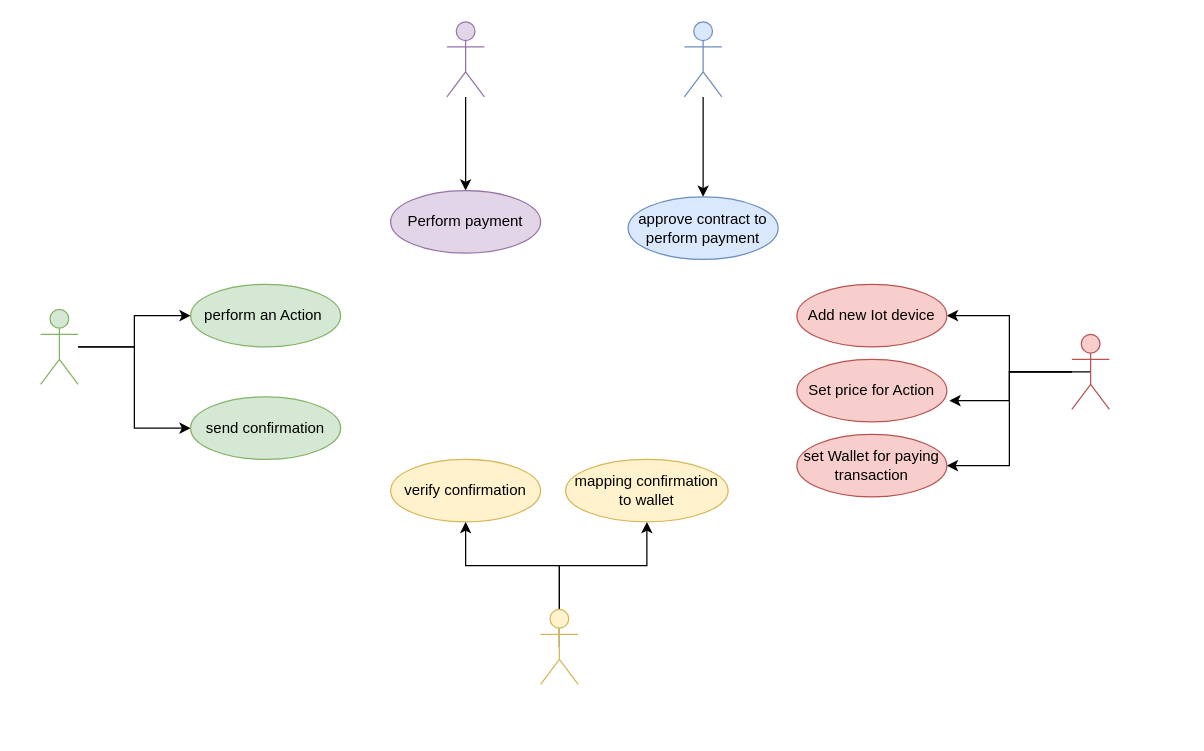
Image size: 1204x751. Some labels were removed from this diagram. Here are the shapes that lost their labels. From the top down, the centre of each, then its label:
the point at 465,59: Blockchain
the point at 702,59: User / Wallet
the point at 58,346: IOT Device
the point at 1090,371: Admin User
the point at 558,646: Backend
